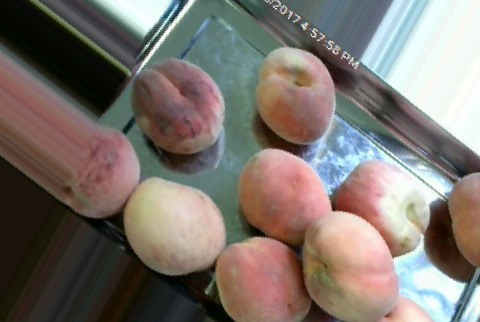Peach: (302, 211, 398, 321), (122, 177, 227, 276), (334, 160, 430, 260), (132, 57, 225, 155), (238, 147, 330, 244), (216, 235, 310, 322), (255, 43, 336, 142), (451, 167, 479, 269)
